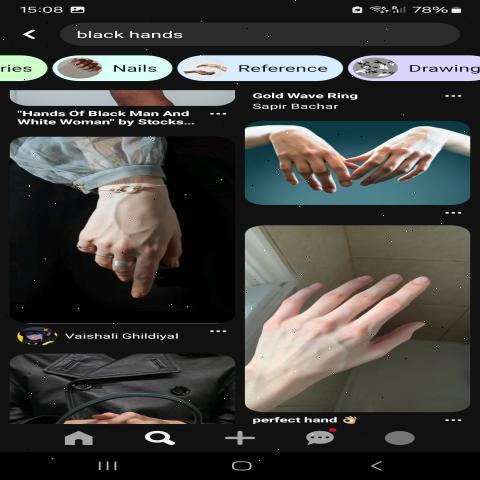Hands: (254, 253, 460, 396), (71, 162, 191, 297), (255, 124, 352, 196), (360, 117, 446, 195)
